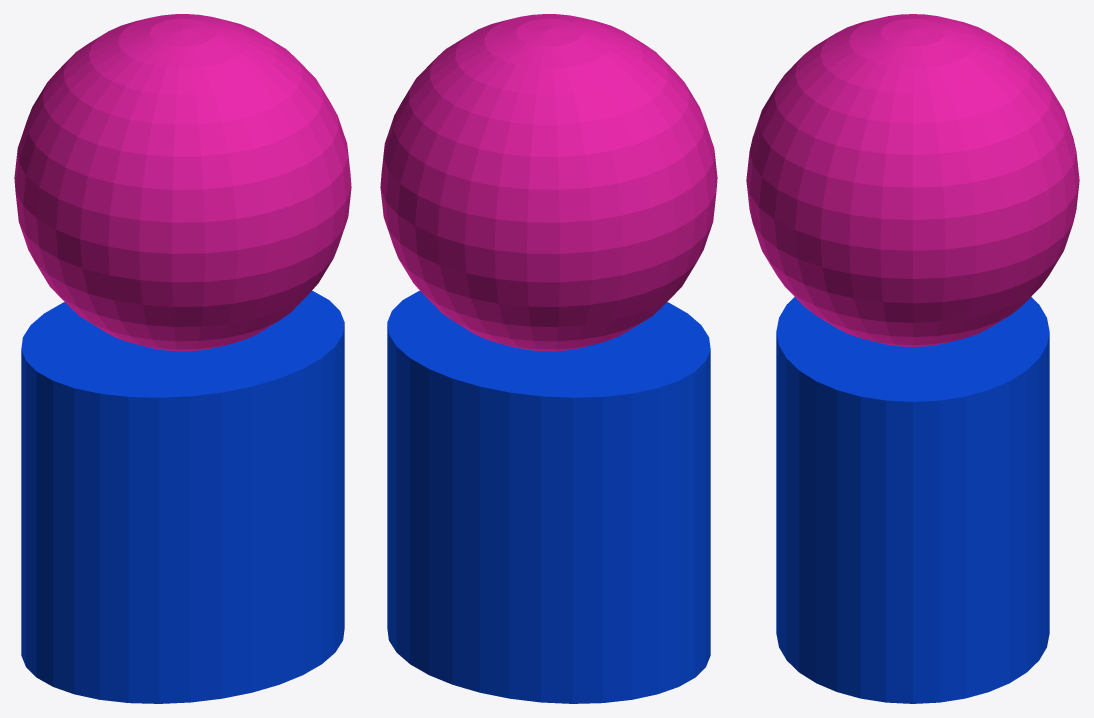
3 views of the same model, side by side, from view 1: azimuth 30°, elevation 25°; view 2: azimuth 150°, elevation 25°; view 3: azimuth 270°, elevation 25° (orthographic).
Parts seen in each view (by area): view 1: Cylinder; view 2: Cylinder; view 3: Cylinder.
Boxes of the visible parts, x1=… form: Cylinder: x1=14, y1=14, x2=351, y2=703; Cylinder: x1=380, y1=14, x2=717, y2=703; Cylinder: x1=746, y1=14, x2=1079, y2=703.
Size of the model in its own units: 2 by 4 by 2.
